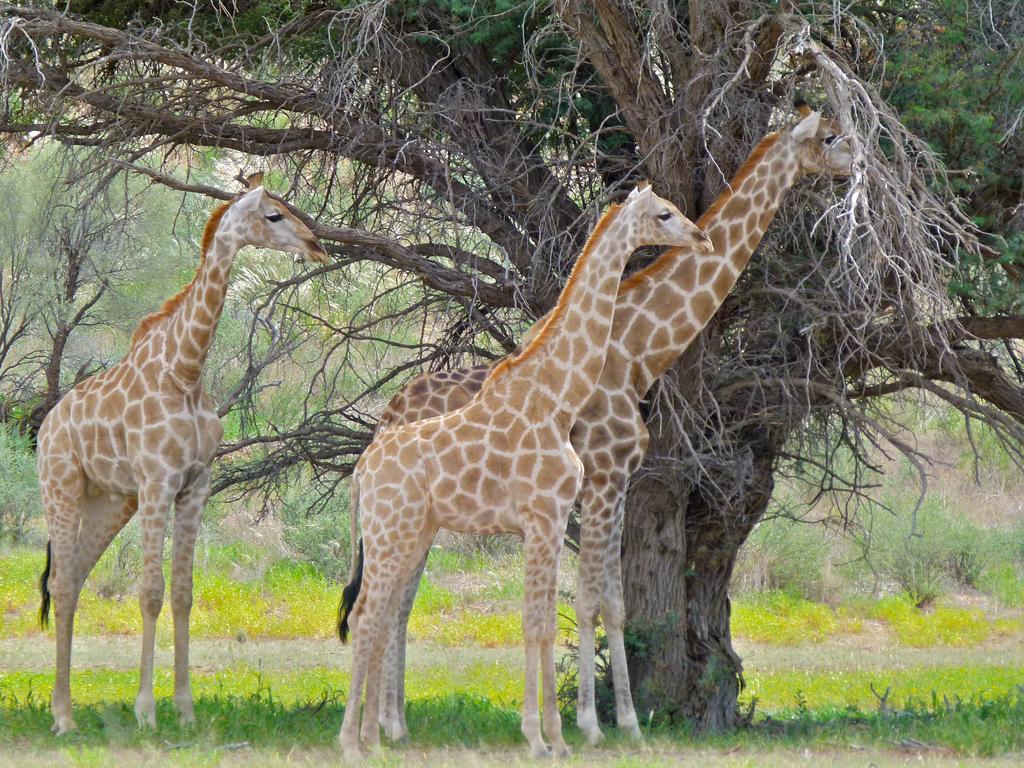giraffe: (271, 153, 707, 731), (14, 134, 340, 744), (582, 97, 897, 496)
